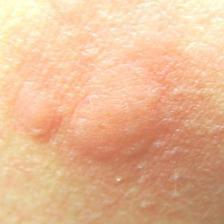Mosquito: (68, 55, 166, 165), (0, 72, 74, 145)
